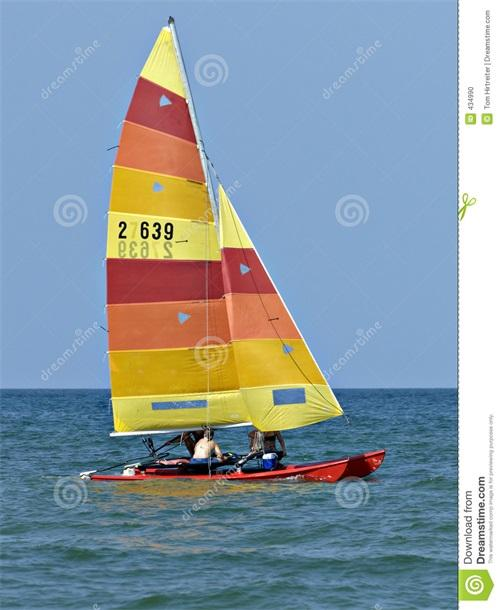Ship: (89, 20, 391, 493)
